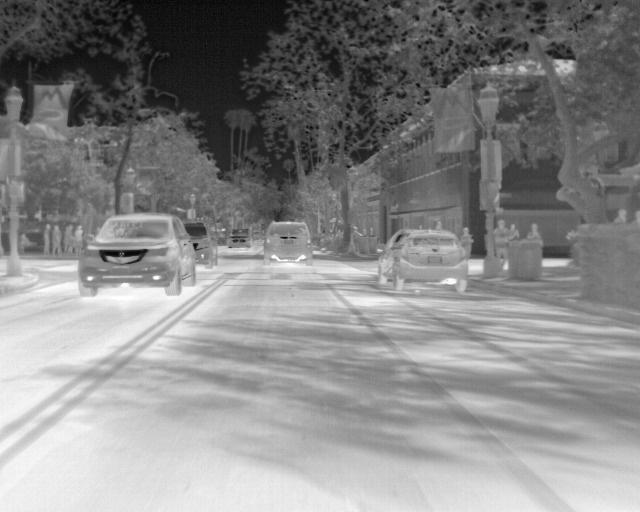bicycle: (76, 212, 195, 297), (376, 227, 473, 295), (260, 221, 313, 268), (186, 221, 218, 270), (225, 228, 253, 250)
empty: (492, 220, 511, 276), (47, 220, 64, 257), (458, 224, 474, 258), (38, 220, 50, 254), (522, 221, 542, 241), (610, 208, 630, 225)
